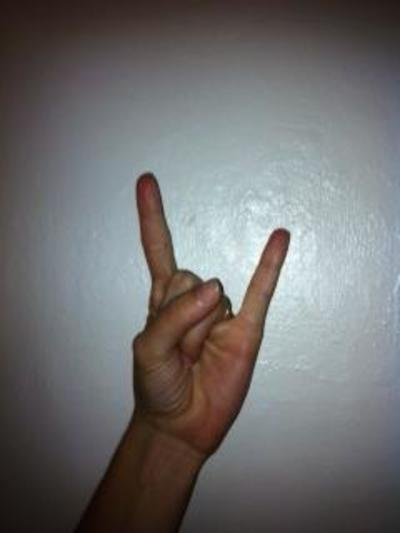closedhandfront: (121, 268, 286, 432)
mindinho: (239, 211, 302, 335)
